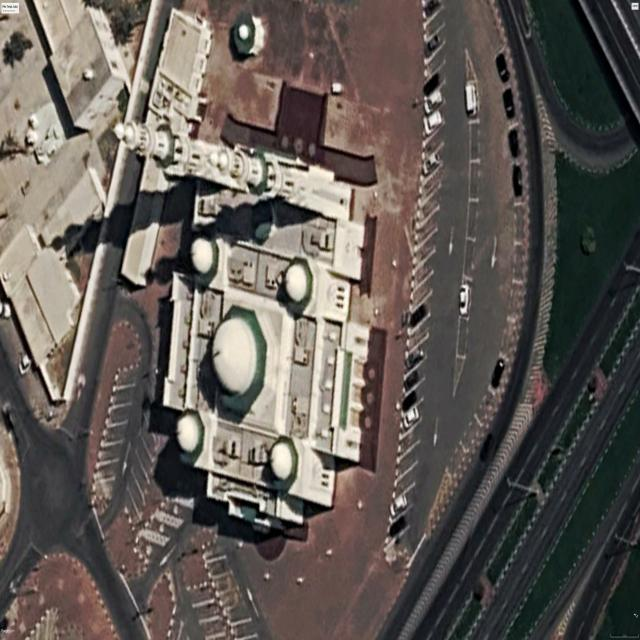Home: (114, 120, 370, 528)
